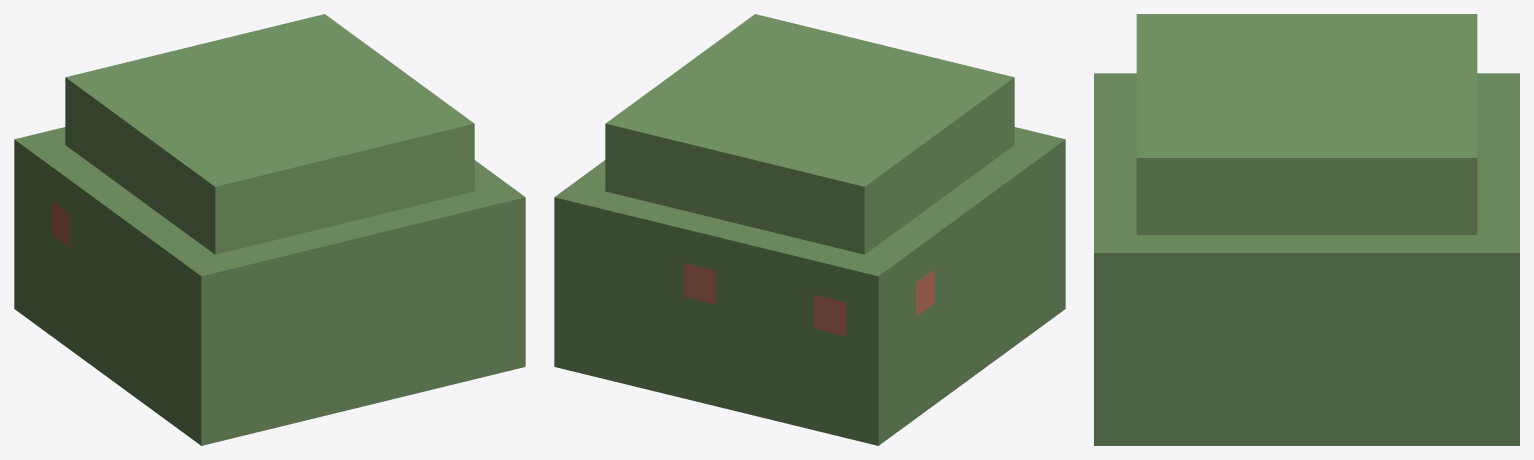
Rendered from escaramujo_04.glb.
The picture shows the model from 3 angles, left to right: view 1: azimuth 30°, elevation 25°; view 2: azimuth 150°, elevation 25°; view 3: azimuth 270°, elevation 25°; orthographic projection. The views are drawn at different scales.
Visible parts, largest first — view 1: escaramujo_04; view 2: escaramujo_04; view 3: escaramujo_04.
Boxes of the visible parts, x1,y1,x2,y2 form: escaramujo_04: (14, 14, 525, 445); escaramujo_04: (554, 14, 1065, 445); escaramujo_04: (1094, 14, 1519, 445).
Size of the model in its own units: 1 by 0.7 by 1.
